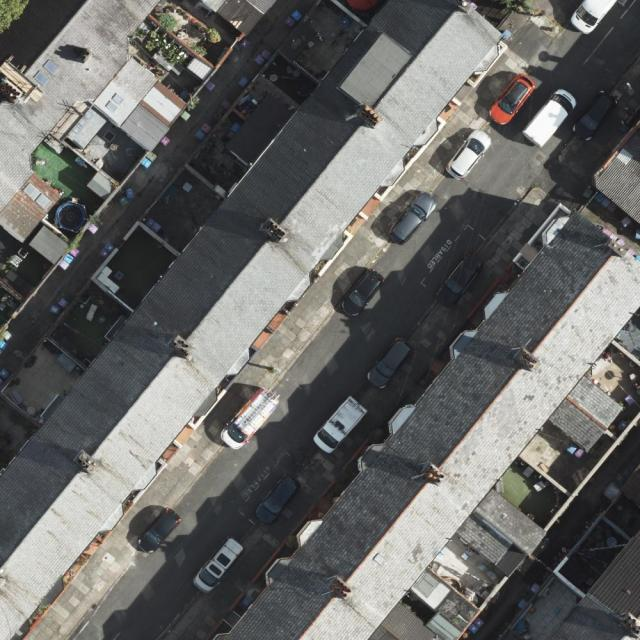roof: (0, 0, 507, 640), (224, 208, 640, 640), (0, 0, 188, 248), (554, 529, 640, 640), (196, 0, 281, 38)
skylight: (71, 110, 92, 136), (30, 70, 49, 89), (33, 191, 50, 211), (43, 58, 62, 75), (22, 184, 39, 202), (372, 552, 390, 569), (108, 91, 124, 107), (103, 99, 117, 115)
